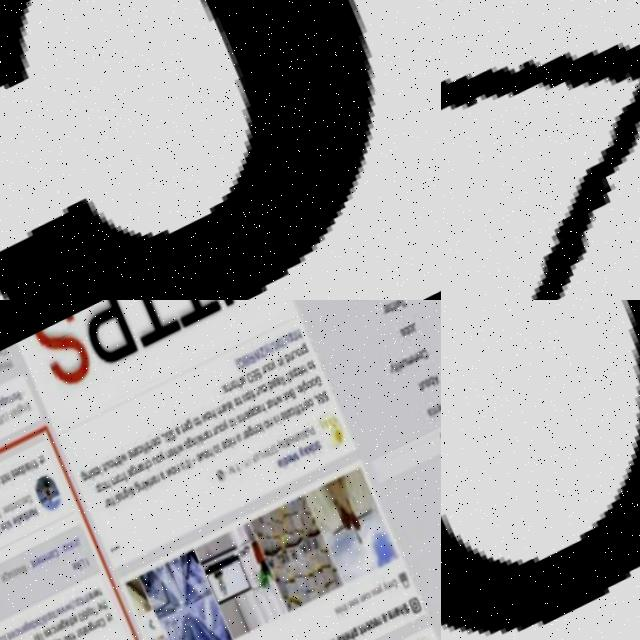0: (35, 617, 44, 630), (75, 614, 84, 626)
1: (233, 467, 240, 478), (84, 559, 89, 569)
2: (441, 0, 640, 300), (257, 353, 266, 366)
5: (39, 615, 48, 628), (79, 614, 87, 623)
8: (240, 361, 249, 374)
A: (431, 383, 439, 395), (130, 450, 139, 460), (269, 384, 277, 395), (392, 616, 400, 626), (379, 621, 387, 631), (274, 465, 282, 475), (157, 475, 165, 485), (113, 496, 121, 506), (202, 435, 210, 445), (136, 466, 144, 476), (220, 408, 228, 418), (173, 430, 181, 440), (69, 617, 77, 627), (25, 510, 33, 520), (283, 415, 291, 424), (233, 439, 241, 448), (201, 454, 209, 463), (266, 405, 274, 414), (253, 411, 261, 420), (32, 619, 40, 628), (0, 521, 7, 531), (361, 600, 367, 610), (150, 479, 156, 488), (81, 628, 87, 637), (26, 622, 32, 631), (63, 622, 68, 629), (6, 573, 11, 580), (17, 516, 22, 523)
B: (274, 345, 284, 357), (286, 394, 295, 407), (401, 334, 409, 347), (426, 386, 434, 398), (300, 436, 306, 446), (278, 447, 284, 456), (6, 505, 12, 514)
C: (0, 0, 369, 300), (441, 444, 640, 637), (96, 619, 106, 632), (50, 549, 59, 562), (134, 448, 143, 459), (420, 357, 428, 369), (366, 627, 374, 637), (305, 404, 313, 414), (287, 413, 295, 422), (222, 444, 230, 453), (144, 463, 152, 472), (153, 440, 161, 449), (49, 627, 55, 637), (12, 629, 19, 637), (363, 600, 370, 607), (0, 349, 7, 356), (18, 499, 23, 507), (0, 635, 6, 640)
D: (280, 462, 289, 475), (265, 385, 274, 398), (282, 360, 291, 372), (67, 618, 75, 630), (283, 443, 291, 454), (23, 495, 31, 506), (18, 467, 26, 477), (29, 622, 35, 632)
E: (249, 375, 258, 388), (347, 606, 356, 616), (384, 619, 392, 630), (370, 625, 378, 636), (273, 382, 281, 393), (181, 426, 189, 437), (343, 608, 352, 617), (382, 312, 390, 322), (363, 629, 371, 639), (240, 434, 248, 444), (194, 457, 202, 467), (294, 391, 302, 401), (242, 416, 250, 426), (124, 472, 132, 482), (224, 406, 232, 416), (149, 442, 157, 452), (125, 453, 133, 463), (237, 381, 245, 391), (94, 605, 102, 615), (54, 624, 62, 634), (19, 497, 27, 507), (284, 461, 292, 470), (302, 406, 310, 415), (278, 418, 286, 427), (218, 446, 226, 455), (167, 452, 175, 461), (59, 546, 67, 555), (10, 469, 18, 478), (434, 412, 441, 422), (7, 630, 14, 640), (19, 625, 25, 635), (69, 565, 76, 573), (13, 501, 20, 509), (287, 441, 293, 450), (266, 452, 272, 461), (44, 630, 50, 639), (85, 594, 91, 603), (15, 568, 21, 577), (9, 518, 15, 527), (2, 506, 8, 515), (23, 403, 29, 412), (0, 574, 5, 584), (34, 559, 39, 567), (92, 592, 97, 599)
F: (293, 411, 300, 422), (140, 446, 147, 457), (233, 384, 240, 395), (108, 500, 114, 511), (121, 475, 127, 486), (236, 383, 241, 394)
G: (183, 441, 193, 453), (244, 430, 253, 443), (299, 385, 308, 398), (184, 422, 193, 435), (57, 620, 66, 633), (131, 484, 140, 496), (120, 490, 129, 502), (127, 468, 136, 480), (77, 473, 86, 485), (312, 382, 321, 394), (300, 349, 308, 360), (16, 404, 23, 415), (85, 624, 93, 633), (21, 623, 29, 632), (2, 572, 8, 581), (0, 397, 4, 407)
H: (396, 613, 405, 626), (205, 452, 214, 465), (269, 403, 278, 416), (256, 409, 265, 422), (170, 450, 179, 463), (207, 414, 216, 427), (140, 465, 149, 477), (101, 482, 110, 494), (109, 461, 118, 473), (295, 336, 302, 348), (94, 590, 102, 600), (299, 371, 306, 382), (290, 440, 297, 450), (228, 470, 234, 480), (81, 597, 87, 607), (7, 411, 13, 421), (338, 612, 344, 621), (249, 461, 255, 470), (99, 605, 105, 614), (19, 514, 25, 523), (30, 463, 36, 472), (345, 637, 354, 640)
I: (142, 446, 149, 458), (193, 441, 200, 452), (138, 448, 145, 459), (295, 410, 301, 422), (291, 412, 297, 424), (226, 443, 232, 455), (186, 462, 192, 474), (117, 458, 123, 470), (394, 370, 400, 381), (391, 310, 397, 321), (140, 484, 146, 495), (125, 491, 131, 502), (87, 473, 93, 484), (278, 363, 284, 374), (273, 347, 279, 358), (244, 361, 250, 372), (275, 420, 280, 432), (309, 450, 314, 461), (278, 465, 283, 476), (247, 397, 252, 408), (11, 631, 17, 640), (77, 562, 82, 572), (14, 409, 19, 419), (297, 439, 303, 447), (47, 630, 53, 638), (27, 464, 32, 473), (336, 613, 340, 623), (66, 545, 71, 553), (12, 518, 17, 526), (1, 364, 6, 372), (36, 635, 41, 640), (365, 300, 371, 301)
J: (409, 330, 418, 343), (233, 364, 239, 377)
K: (304, 451, 313, 464), (300, 453, 309, 466), (141, 483, 150, 495), (194, 439, 203, 451), (64, 545, 70, 555), (73, 564, 79, 573)
L: (158, 436, 167, 449), (312, 402, 319, 414), (299, 390, 305, 402), (111, 498, 117, 509), (96, 468, 102, 479), (258, 428, 263, 439), (228, 406, 233, 417), (267, 350, 272, 361), (78, 562, 84, 571), (15, 517, 20, 527), (298, 438, 304, 446), (384, 591, 389, 600), (68, 544, 73, 552), (15, 408, 20, 416), (37, 634, 42, 640)
M: (288, 458, 298, 470), (410, 361, 419, 372), (403, 364, 412, 375), (109, 479, 117, 489), (261, 454, 269, 464), (18, 566, 26, 576), (42, 555, 49, 563), (37, 557, 44, 565), (9, 503, 16, 510)
N: (188, 441, 197, 451), (227, 442, 236, 451), (264, 424, 272, 434), (249, 431, 257, 441), (171, 468, 179, 478), (145, 480, 153, 490), (136, 485, 144, 495), (237, 418, 245, 428), (198, 437, 206, 447), (162, 454, 170, 464), (132, 468, 140, 478), (83, 473, 91, 483), (275, 363, 283, 373), (29, 509, 37, 519), (395, 369, 403, 378), (358, 631, 366, 640), (117, 494, 125, 503), (213, 412, 221, 421), (286, 358, 294, 367), (430, 414, 437, 424), (356, 603, 364, 611), (385, 589, 392, 597), (4, 474, 10, 483), (90, 624, 96, 632), (52, 627, 58, 634), (70, 542, 75, 550), (20, 405, 25, 413), (16, 628, 21, 635), (31, 561, 36, 568), (0, 524, 2, 531), (357, 300, 365, 301)
O: (234, 363, 244, 376), (244, 378, 253, 390), (231, 402, 239, 413), (204, 415, 212, 426), (105, 462, 113, 473), (422, 387, 430, 397), (253, 429, 261, 439), (103, 500, 111, 510), (217, 428, 225, 438), (153, 458, 161, 468), (113, 477, 121, 487), (304, 368, 312, 378), (259, 389, 267, 399), (190, 422, 198, 432), (92, 469, 100, 479), (293, 354, 301, 364), (229, 385, 237, 395), (389, 587, 397, 597), (14, 467, 22, 477), (260, 426, 268, 435), (210, 450, 218, 459), (168, 470, 176, 479), (304, 387, 312, 396), (226, 424, 234, 433), (265, 368, 273, 377), (46, 552, 54, 561), (415, 360, 422, 369), (405, 333, 412, 342), (309, 384, 315, 394), (87, 609, 93, 619), (371, 595, 378, 603), (93, 623, 101, 630), (11, 394, 18, 401), (47, 613, 52, 621), (0, 476, 5, 483), (65, 636, 72, 640)
P: (92, 484, 101, 497), (241, 395, 250, 408), (248, 410, 257, 422), (244, 412, 253, 424), (289, 373, 298, 385), (306, 432, 315, 443), (4, 359, 12, 370), (284, 338, 291, 349), (81, 611, 89, 620), (348, 633, 357, 640), (72, 599, 78, 609), (15, 393, 21, 402), (349, 300, 356, 305)
R: (277, 380, 286, 393), (246, 357, 255, 370), (146, 443, 153, 453), (297, 353, 304, 362), (239, 436, 245, 446), (211, 431, 217, 441), (252, 393, 258, 403), (389, 618, 395, 627), (374, 624, 380, 633), (299, 408, 305, 417), (206, 434, 212, 443), (218, 410, 224, 419), (259, 371, 265, 380), (118, 476, 123, 485), (227, 387, 232, 396), (381, 315, 386, 323), (153, 478, 158, 486), (101, 503, 106, 511), (259, 457, 264, 464), (226, 473, 231, 480), (84, 628, 88, 635), (0, 508, 4, 515), (90, 594, 94, 600), (9, 396, 13, 402), (3, 363, 7, 369)
S: (253, 373, 262, 386), (400, 612, 409, 624), (313, 447, 322, 459), (319, 398, 328, 410), (315, 400, 324, 412), (166, 433, 175, 445), (162, 435, 171, 447), (180, 445, 189, 455), (270, 421, 278, 431), (234, 420, 242, 430), (238, 399, 246, 409), (269, 450, 277, 460), (177, 466, 185, 475), (424, 417, 431, 427), (397, 337, 404, 346), (294, 439, 301, 448), (333, 613, 339, 623), (253, 458, 259, 468), (128, 489, 134, 499), (221, 389, 227, 399), (76, 630, 82, 640), (287, 377, 293, 386), (89, 471, 95, 480), (23, 463, 29, 472), (9, 470, 15, 479), (3, 632, 9, 640), (353, 605, 358, 612), (42, 632, 47, 639), (12, 570, 17, 577), (9, 571, 14, 578), (11, 410, 16, 417), (438, 441, 441, 451), (33, 635, 38, 640), (0, 416, 2, 425)
T: (398, 305, 406, 317), (128, 452, 136, 463), (263, 406, 270, 418), (294, 372, 301, 384), (177, 428, 184, 440), (291, 337, 298, 349), (288, 338, 295, 350), (270, 347, 277, 359), (416, 391, 423, 402), (281, 416, 288, 427), (215, 448, 222, 459), (183, 464, 190, 475), (280, 398, 287, 409), (229, 422, 236, 433), (308, 366, 315, 377), (296, 372, 303, 383), (248, 395, 255, 406), (235, 401, 242, 412), (195, 420, 202, 431), (225, 388, 232, 399), (89, 609, 97, 618), (100, 484, 106, 495), (97, 485, 103, 496), (145, 444, 151, 455), (115, 459, 121, 470), (100, 466, 106, 477), (28, 561, 34, 571), (341, 611, 347, 620), (310, 450, 316, 459), (79, 630, 85, 639), (102, 603, 108, 612), (298, 409, 303, 419), (429, 417, 434, 426), (390, 310, 395, 319), (33, 461, 38, 470), (6, 396, 11, 405), (392, 372, 397, 380), (387, 313, 392, 321), (79, 599, 84, 607), (77, 600, 82, 608), (50, 613, 55, 621), (23, 512, 28, 520), (355, 634, 361, 640), (0, 478, 3, 486), (32, 637, 37, 640)
U: (72, 540, 81, 550), (212, 430, 220, 440), (101, 464, 109, 474), (255, 392, 263, 401), (418, 389, 425, 398), (400, 367, 407, 376), (150, 460, 156, 470), (291, 356, 297, 366), (0, 414, 6, 424), (283, 397, 289, 406), (262, 370, 268, 379), (2, 398, 9, 405), (369, 597, 374, 605), (304, 434, 309, 442), (256, 458, 261, 466), (353, 300, 361, 303), (62, 636, 68, 640), (0, 400, 1, 408)
V: (197, 456, 205, 466), (3, 520, 11, 530), (437, 410, 441, 420), (0, 364, 3, 371)
W: (250, 354, 262, 368), (173, 448, 183, 458), (393, 306, 402, 317), (163, 471, 172, 482), (274, 400, 283, 411), (118, 456, 127, 466), (200, 418, 208, 428), (63, 605, 70, 613), (58, 608, 65, 615), (53, 610, 60, 617)
Y: (156, 453, 165, 466), (386, 369, 395, 381), (219, 424, 228, 436), (268, 364, 277, 376), (262, 348, 271, 360), (295, 453, 304, 465), (274, 446, 282, 456), (380, 591, 386, 600), (375, 593, 381, 602), (68, 634, 76, 640)
